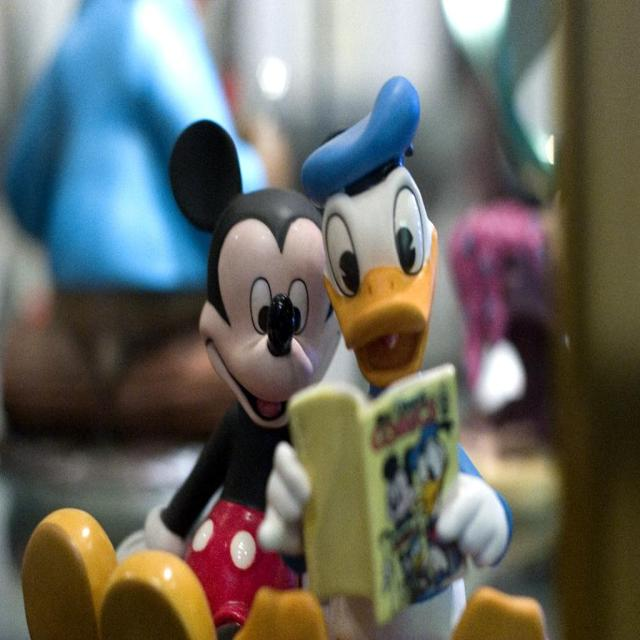Toy: (232, 71, 547, 640), (106, 113, 347, 639)
